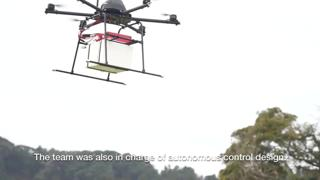UAV: (45, 0, 181, 86)
